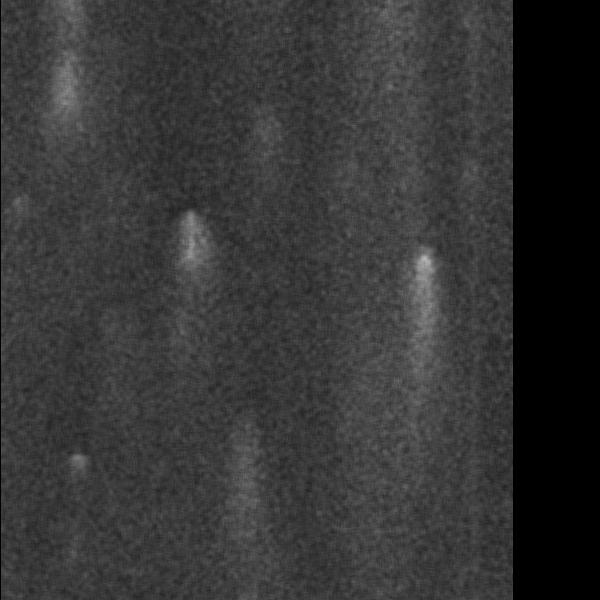spark: (407, 243, 437, 436), (175, 208, 205, 349), (48, 46, 90, 127), (231, 443, 266, 532), (258, 119, 276, 170), (70, 448, 86, 486)
